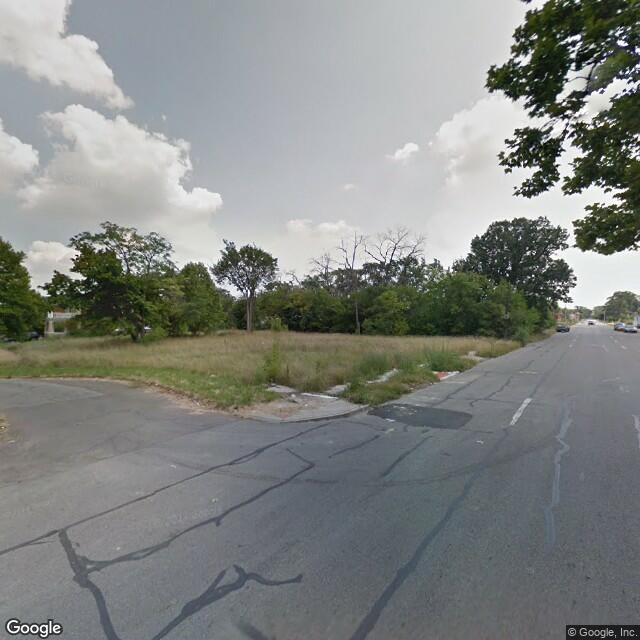litter: (288, 392, 298, 403), (1, 425, 8, 430), (194, 401, 201, 404)
